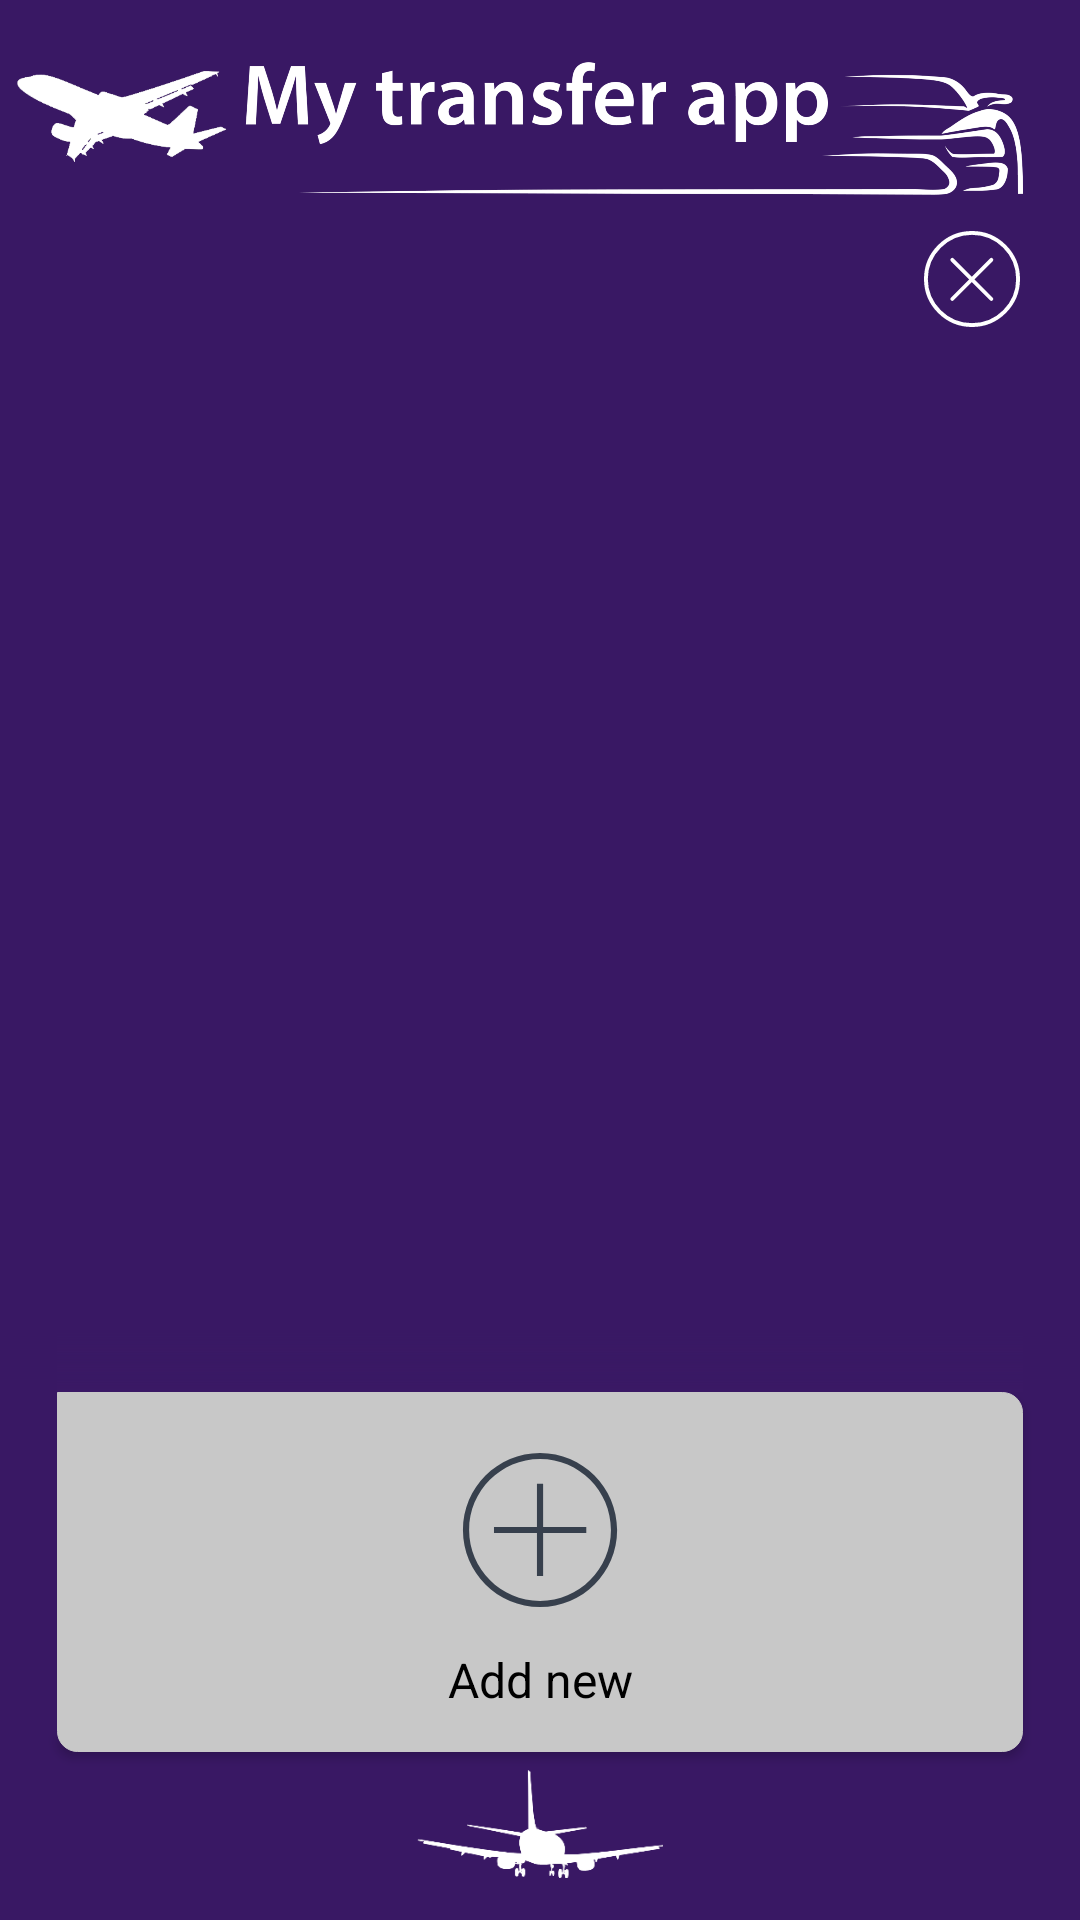

Where icons sit on this 1080w x 1920h app screen, as [x1, y1, x2, y2]:
close: [924, 231, 1020, 327]
plane: [418, 1770, 663, 1878]
plane takeoff: [17, 71, 226, 162]
